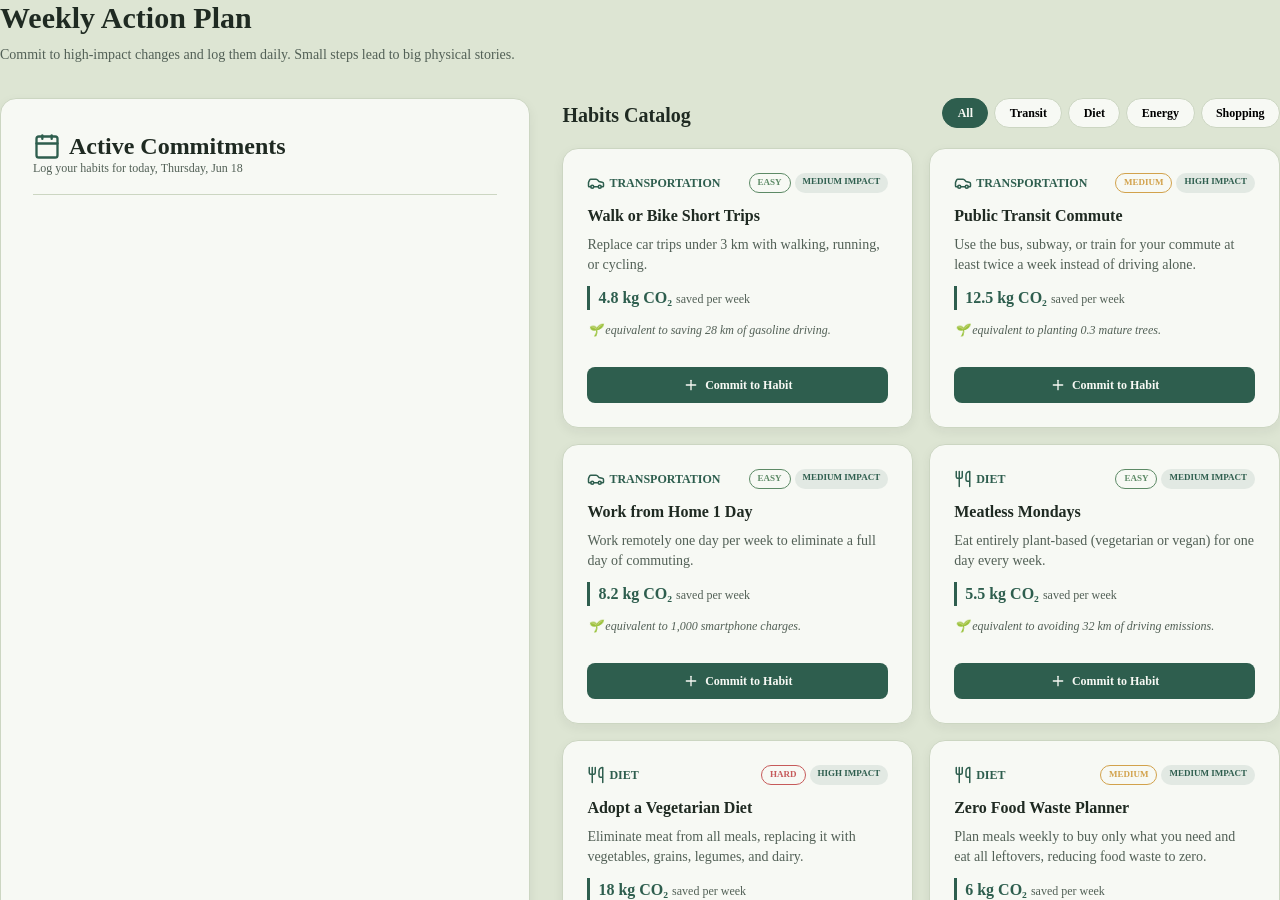
Scenario: Action Plan Page › should render catalog and support committing to habits and logging completions
Expected: the heading "Weekly Action Plan" is shown, x1=0 y1=1 x2=252 y2=34
Click the tab "Diet": (1094, 113) x1=1068 y1=98 x2=1120 y2=128
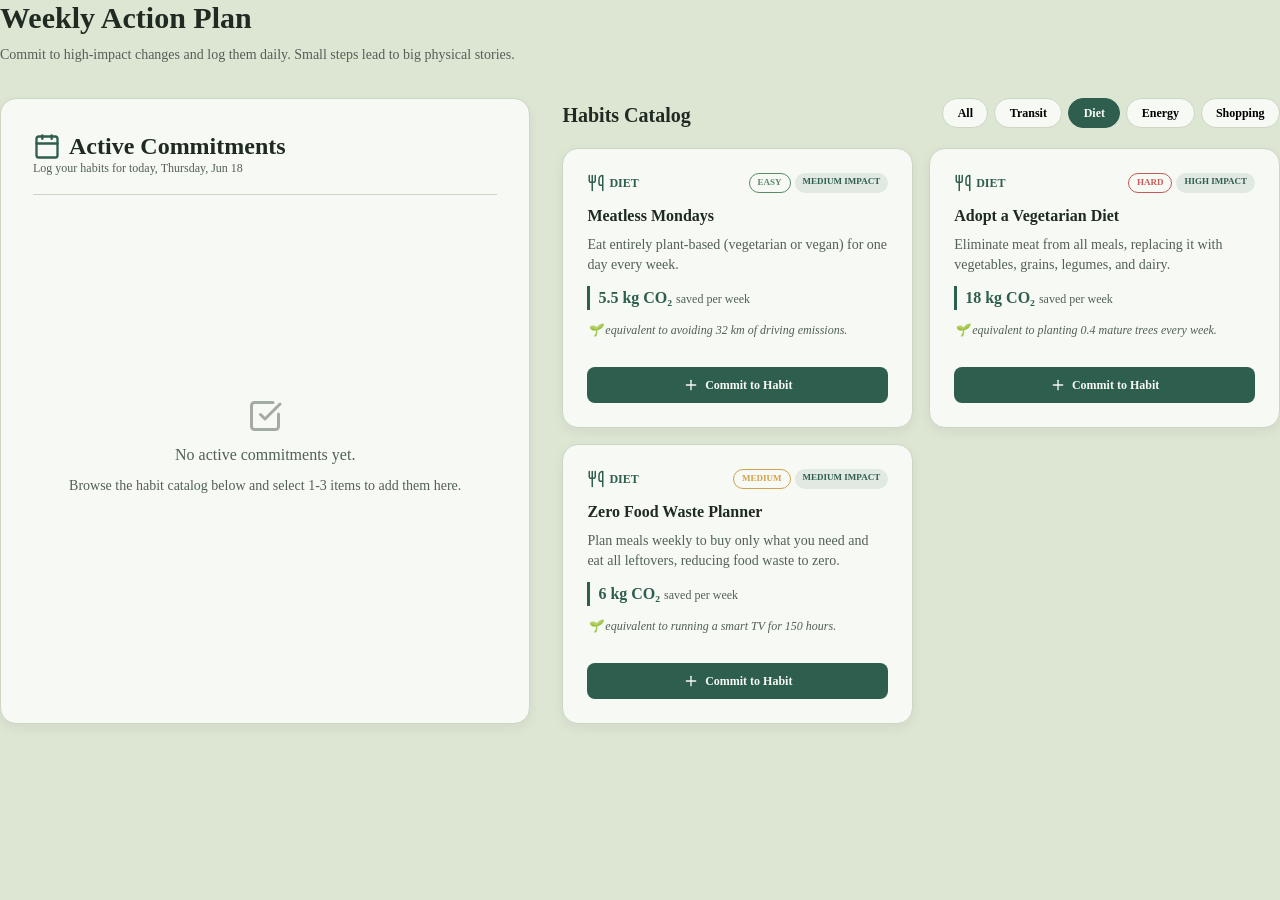
// Commit to 'Meatless Mondays'
Click the button "Commit to Habit" below "5.5": (738, 385) x1=587 y1=367 x2=888 y2=403
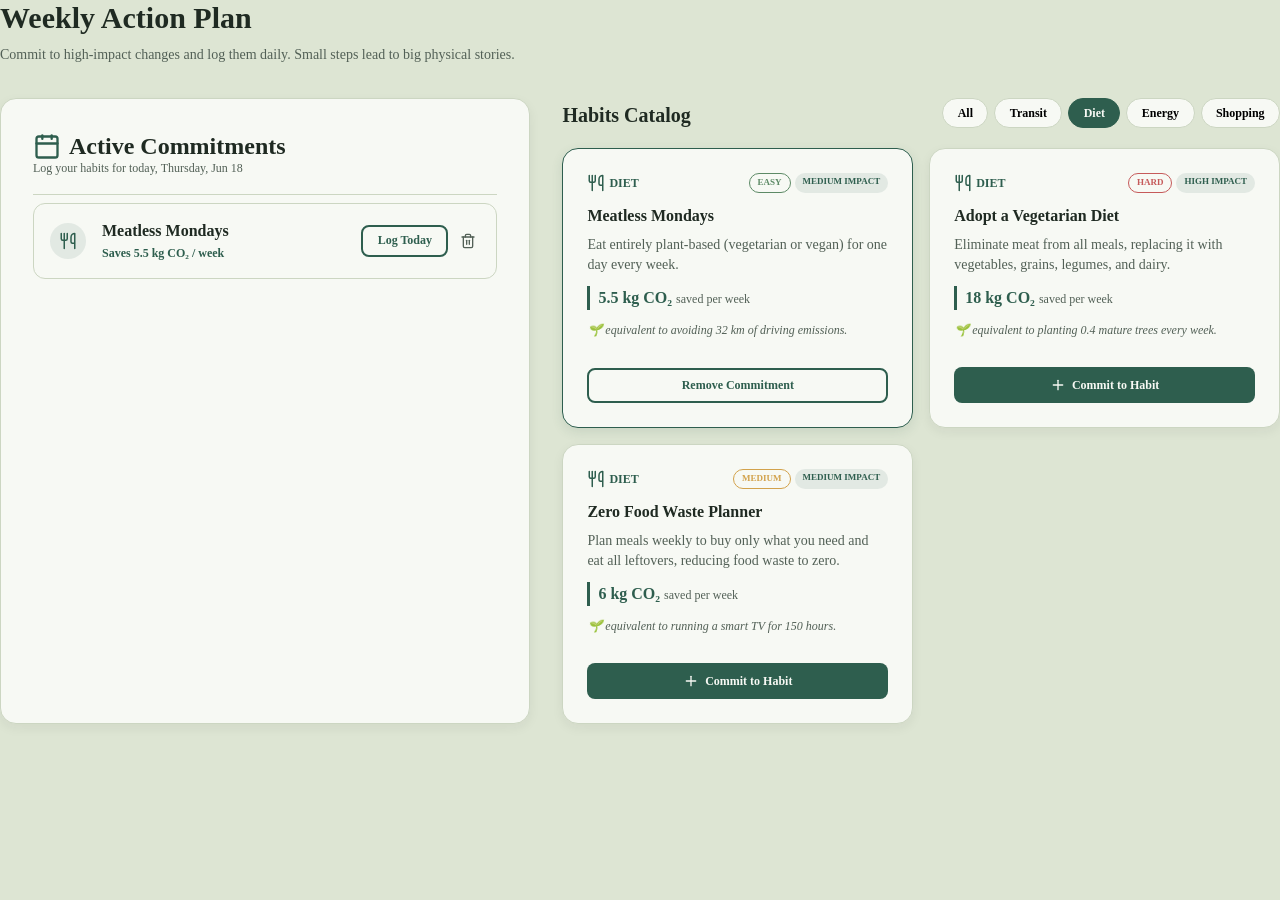
Expected: the text "No active commitments yet." is gone
// Log habit completed today
Click the button named "Mark \"Meatless Mondays\" completed today": (405, 241) x1=361 y1=225 x2=448 y2=257
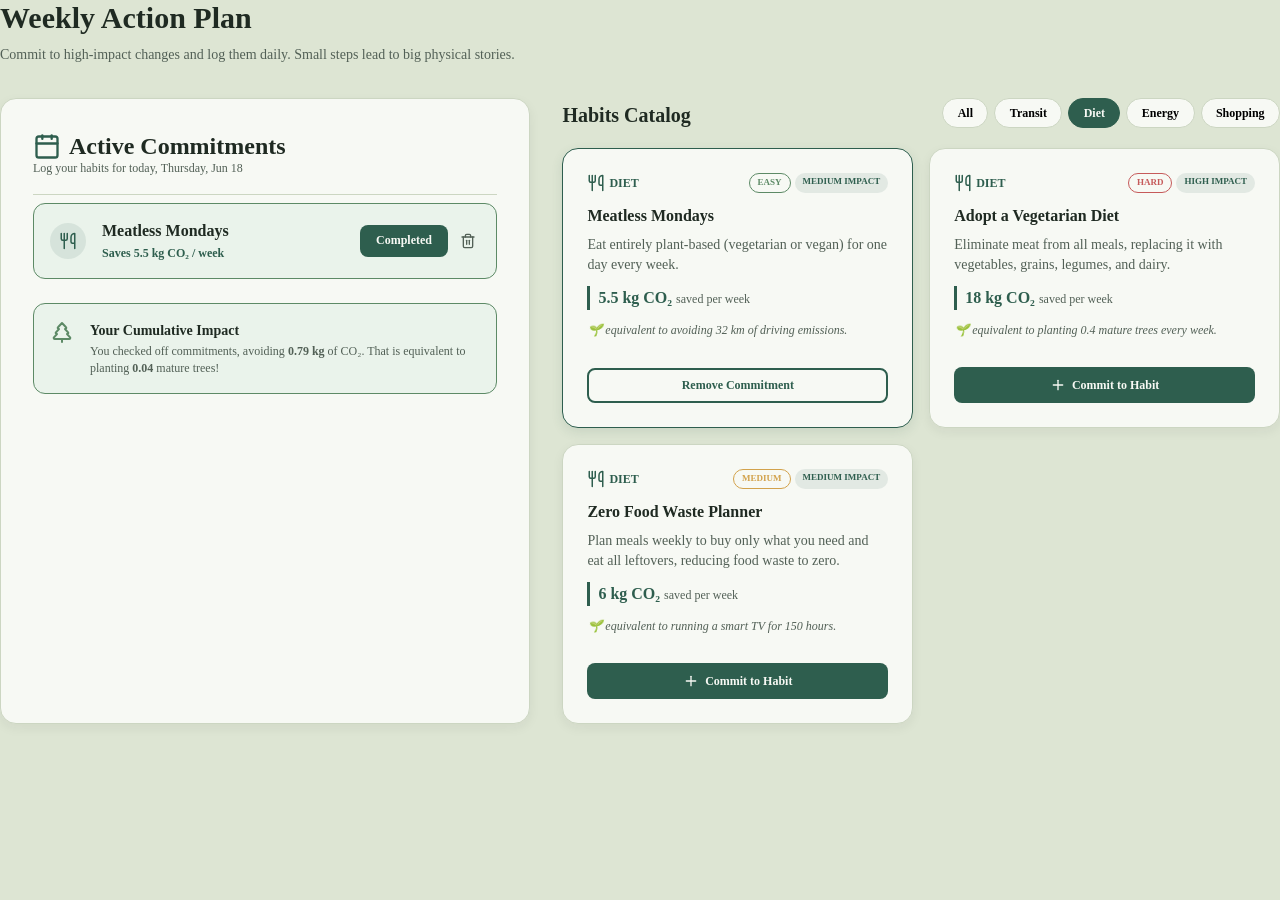
Expected: the button named "Mark \"Meatless Mondays\" completed today" reads "Completed", x1=360 y1=225 x2=448 y2=257
Expected: the heading "Your Cumulative Impact" is shown, x1=90 y1=323 x2=239 y2=338
